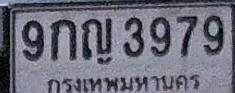3: (123, 16, 144, 57)
7: (176, 15, 198, 56)
9: (22, 20, 44, 60), (202, 14, 224, 54), (150, 16, 171, 56)
A01: (50, 18, 76, 60)
A13: (82, 18, 114, 66)
BKK: (42, 72, 202, 93)
